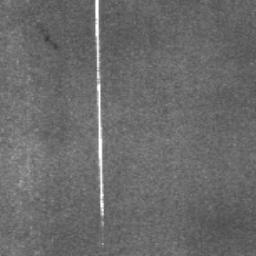Bright scratch: (95, 0, 104, 216)
